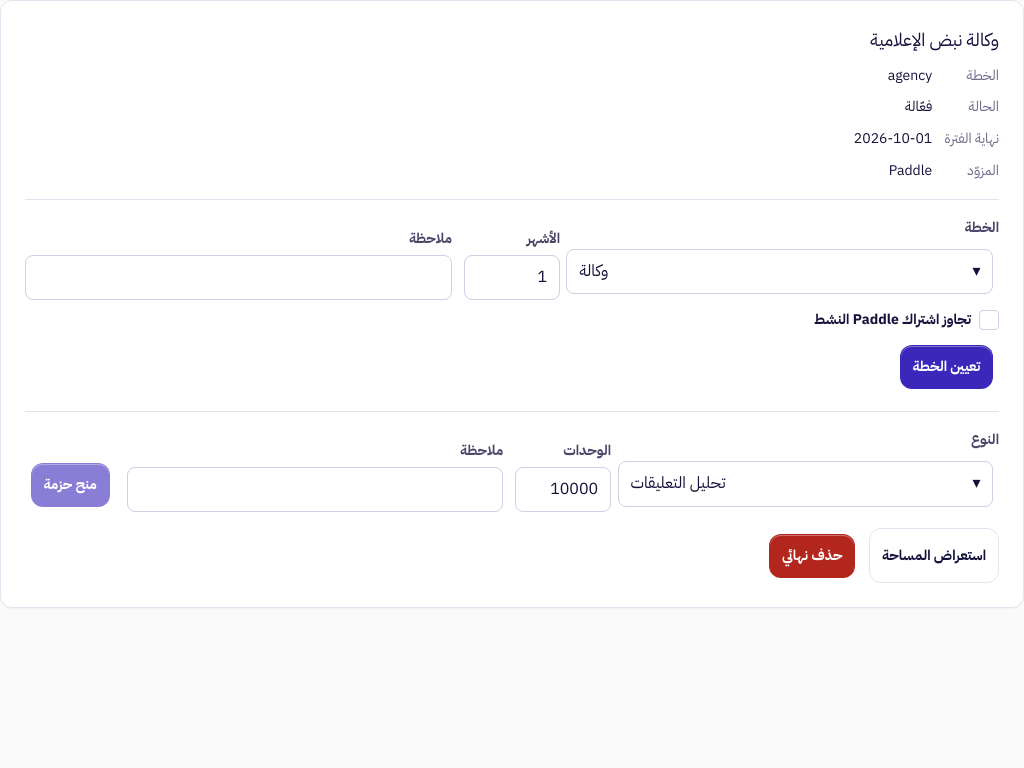
it: WorkspaceRow › a paddle_subscription_active refusal is said in the plan form's own status line, and nothing is toasted
Step 1. Click the button "تعيين الخطة" → {"x": 946, "y": 367}, box [900,345,993,389]
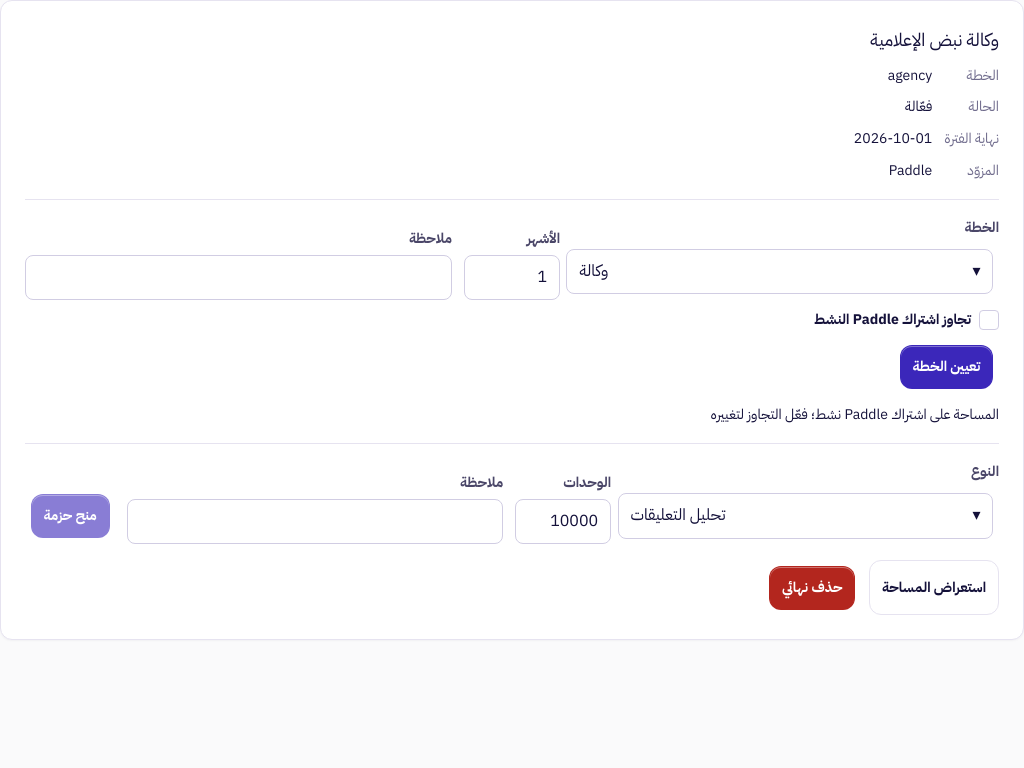
Now the message reads "المساحة على اشتراك Paddle نشط؛ فعّل التجاوز لتغييره", box [710,404,999,425]
